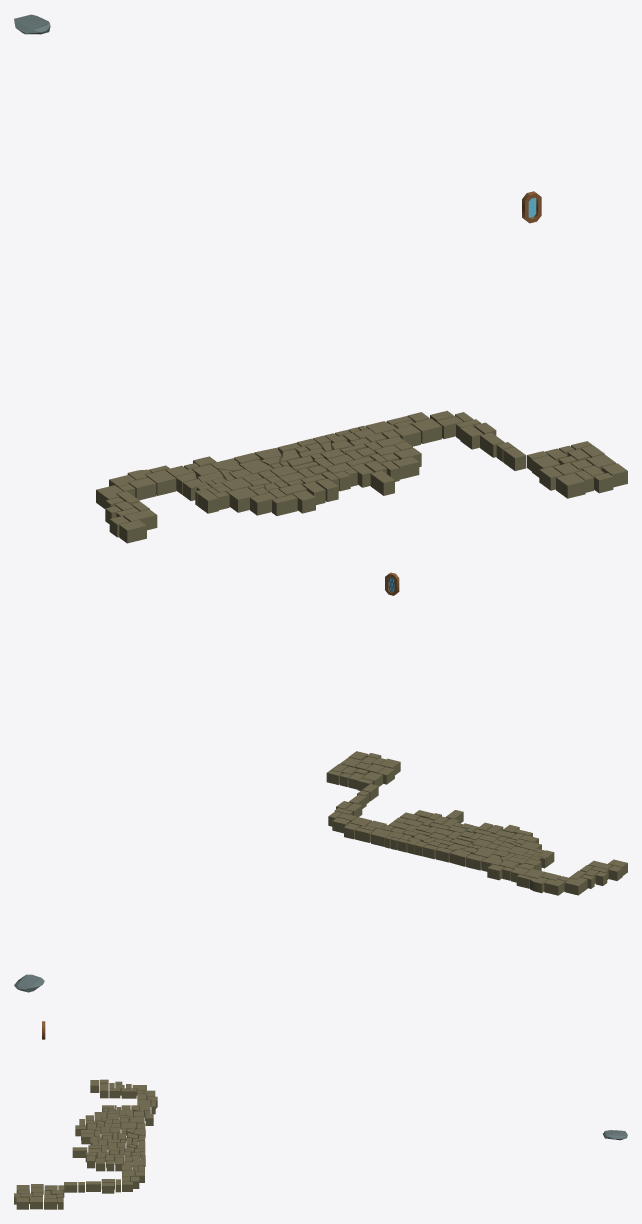
3 views of the same model, one above another, from view 1: azimuth 30°, elevation 25°; view 2: azimuth 150°, elevation 25°; view 3: azimuth 270°, elevation 25° (orthographic). The views are drawn at different scales.
Visible parts, largest first — view 1: Box15349_rock2_0; view 2: Box15349_rock2_0; view 3: Box15349_rock2_0.
Boxes of the visible parts, box(x1,y1,x2,y2) form: Box15349_rock2_0: box(96, 410, 627, 543); Box15349_rock2_0: box(326, 751, 627, 895); Box15349_rock2_0: box(14, 1079, 157, 1209).
Size of the model in its own units: 1767 by 1122 by 3743.
